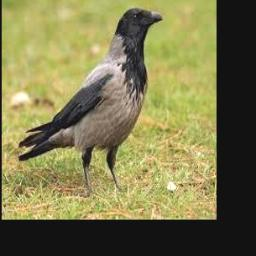Crow: (17, 7, 162, 193)
